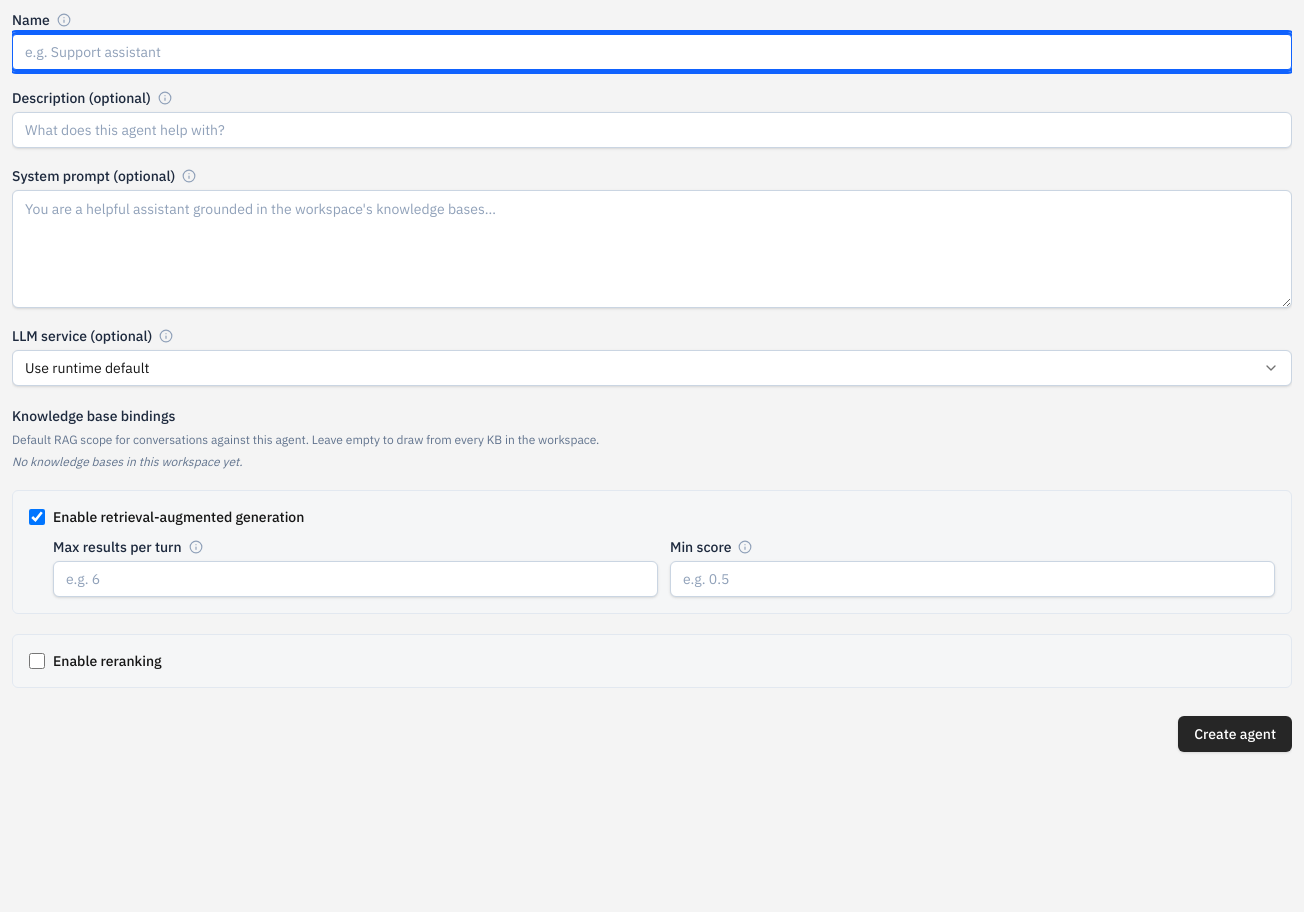
Test case: AgentForm › blocks submit when the name is blank
Click the button "Create agent": (1235, 734) [1178,716,1292,752]
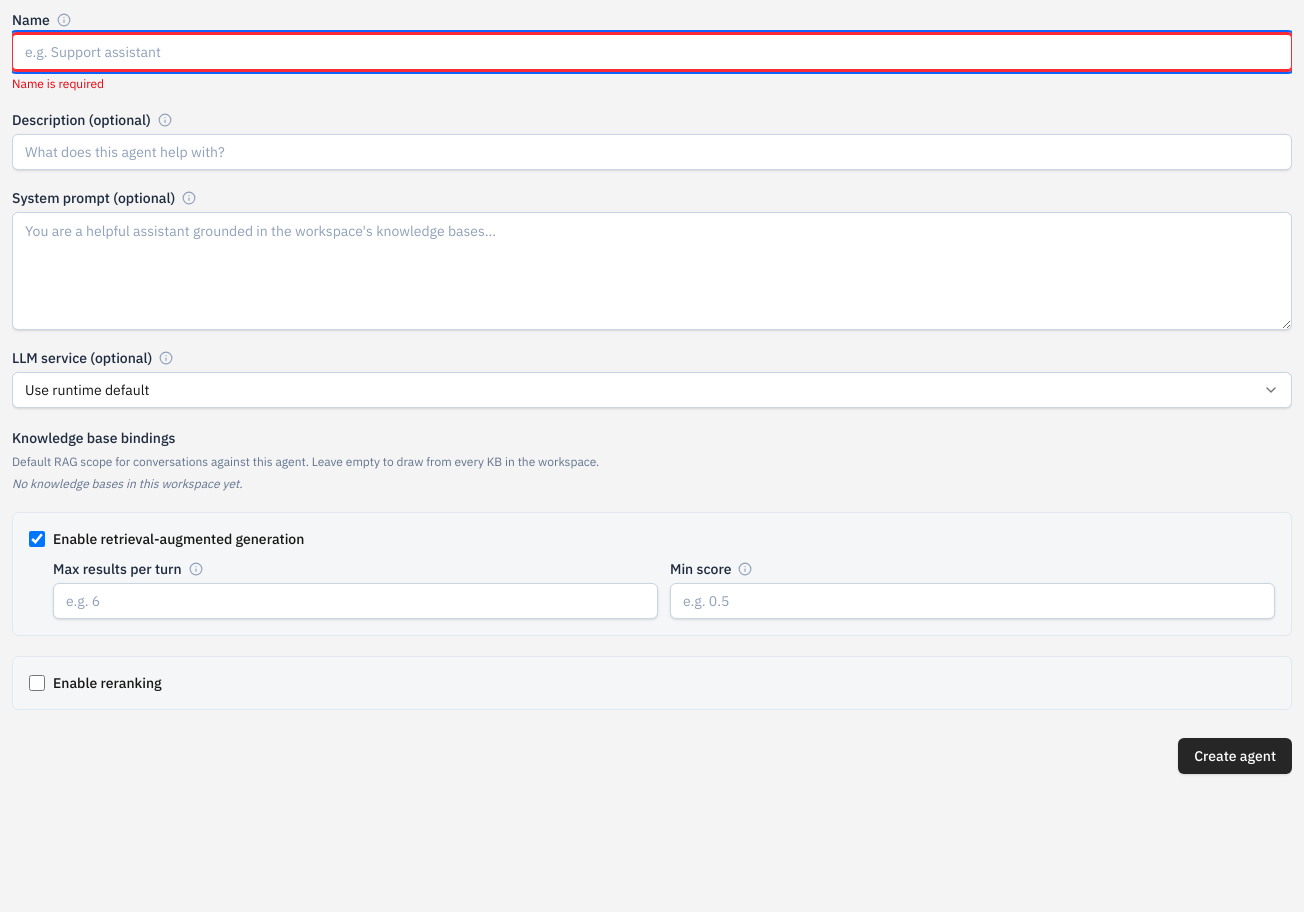
Check: the text "Name is required" is shown, box [12,76,104,91]
